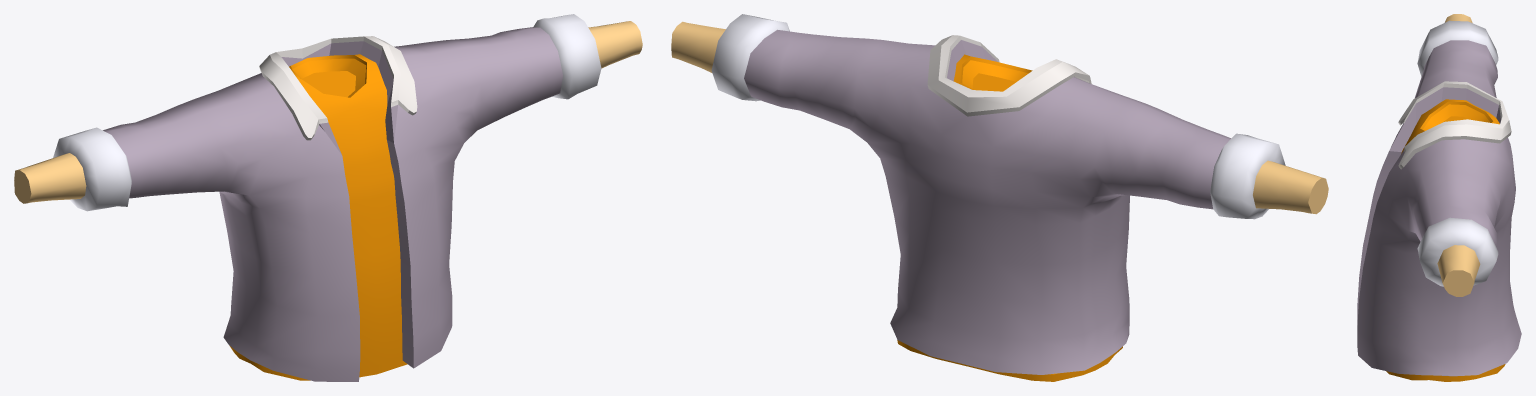
Rendered from Torso_03_03.fbx.
3 renders of one model, left to right at view 1: azimuth 30°, elevation 25°; view 2: azimuth 150°, elevation 25°; view 3: azimuth 270°, elevation 25°, orthographic. The views are drawn at different scales.
Visible parts, largest first — view 1: Torso_03_03; view 2: Torso_03_03; view 3: Torso_03_03.
Part boxes in pixels (x1,y1,x2,y2): Torso_03_03: [14, 14, 642, 381]; Torso_03_03: [671, 14, 1328, 381]; Torso_03_03: [1357, 14, 1521, 381].
Size of the model in its own units: 118 by 53.04 by 31.99.
